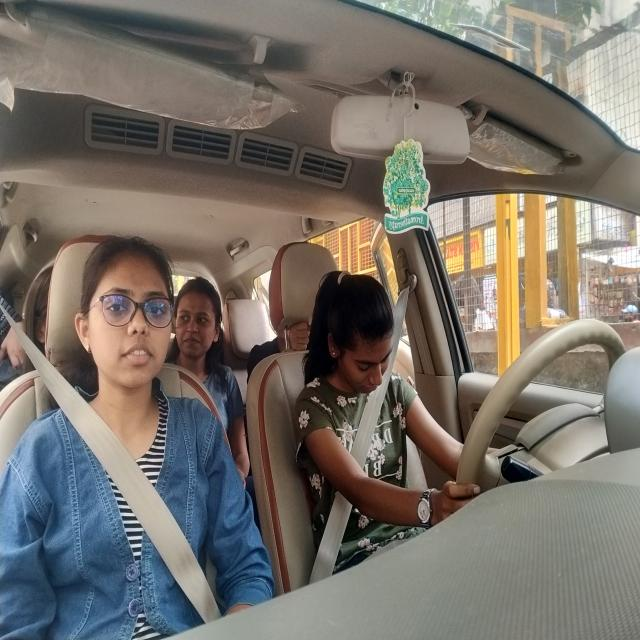drowsy: (310, 259, 405, 411)
person: (70, 231, 184, 408), (170, 262, 227, 382), (13, 250, 53, 384)
